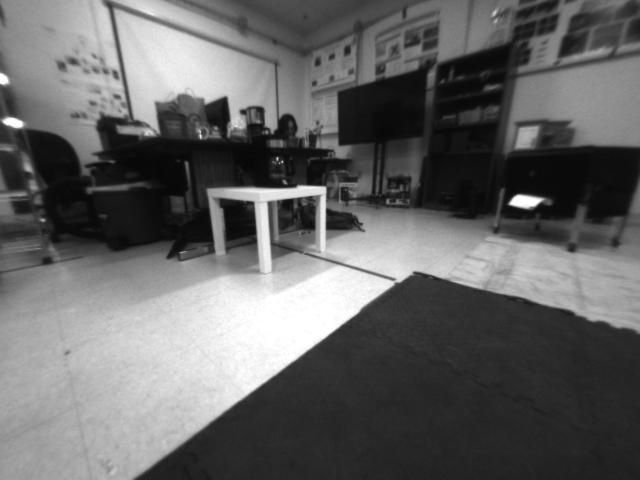coffee_pot: (252, 130, 300, 190)
